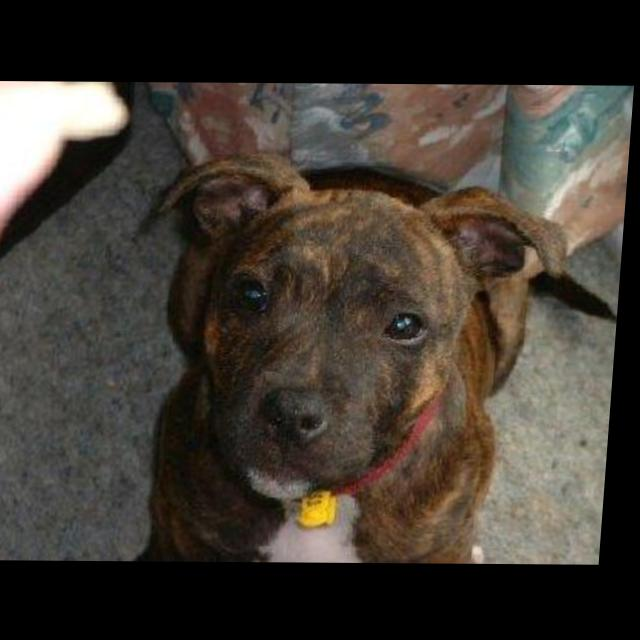staffford: (131, 149, 632, 564)
